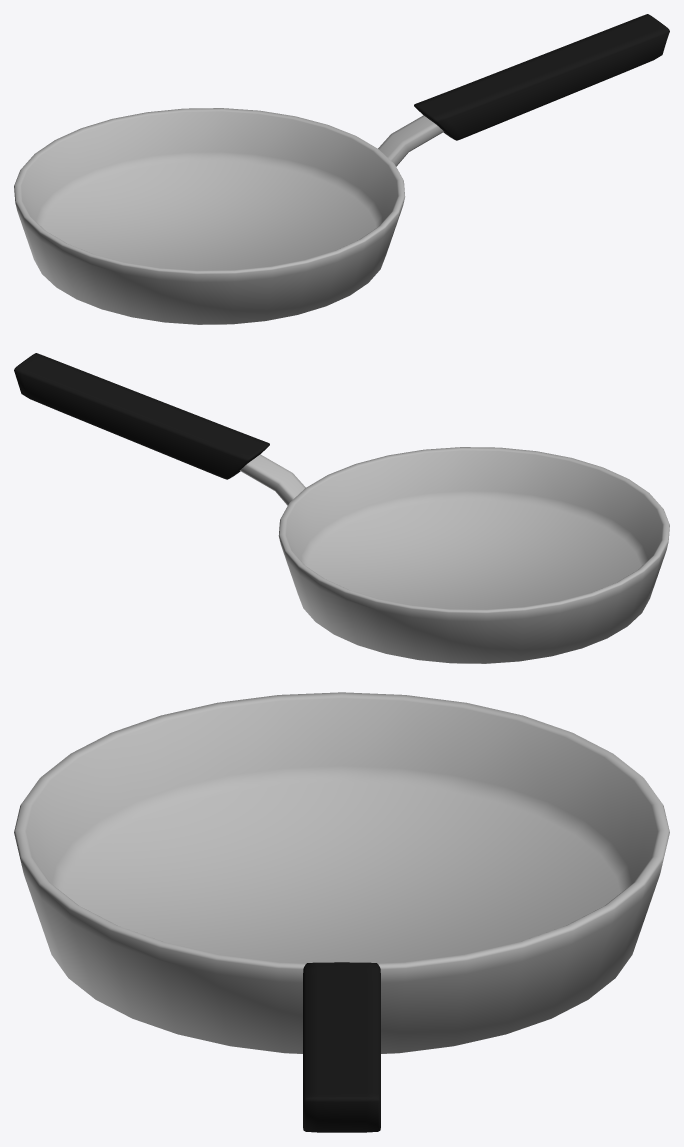
File: Pan.fbx
The picture shows the model from 3 angles, top to bottom: view 1: azimuth 30°, elevation 25°; view 2: azimuth 150°, elevation 25°; view 3: azimuth 270°, elevation 25°; orthographic projection. The views are drawn at different scales.
Parts seen in each view (by area): view 1: Pan_LOD_0; view 2: Pan_LOD_0; view 3: Pan_LOD_0.
Boxes of the visible parts, x1,y1,x2,y2 form: Pan_LOD_0: (14, 14, 669, 324); Pan_LOD_0: (14, 353, 669, 663); Pan_LOD_0: (14, 692, 669, 1132).
Size of what is drawn, in the model's own units: 52.98 by 9.84 by 29.
